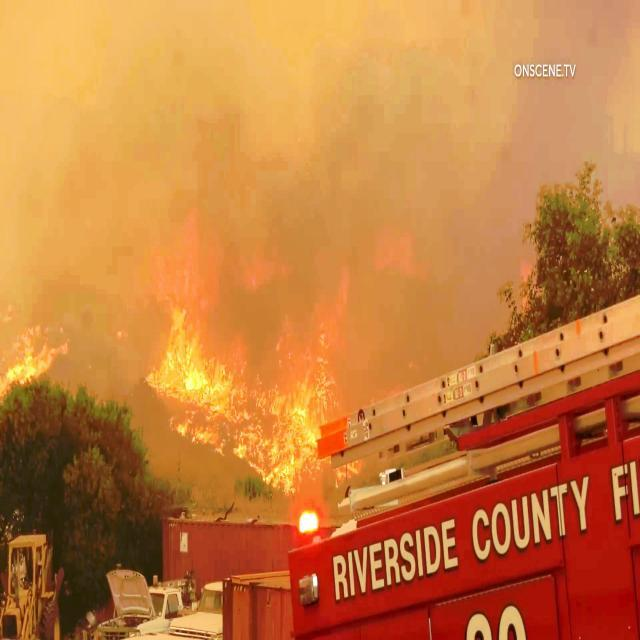Fire: (146, 297, 343, 502), (0, 314, 76, 400)
Smoke: (0, 2, 516, 300)
